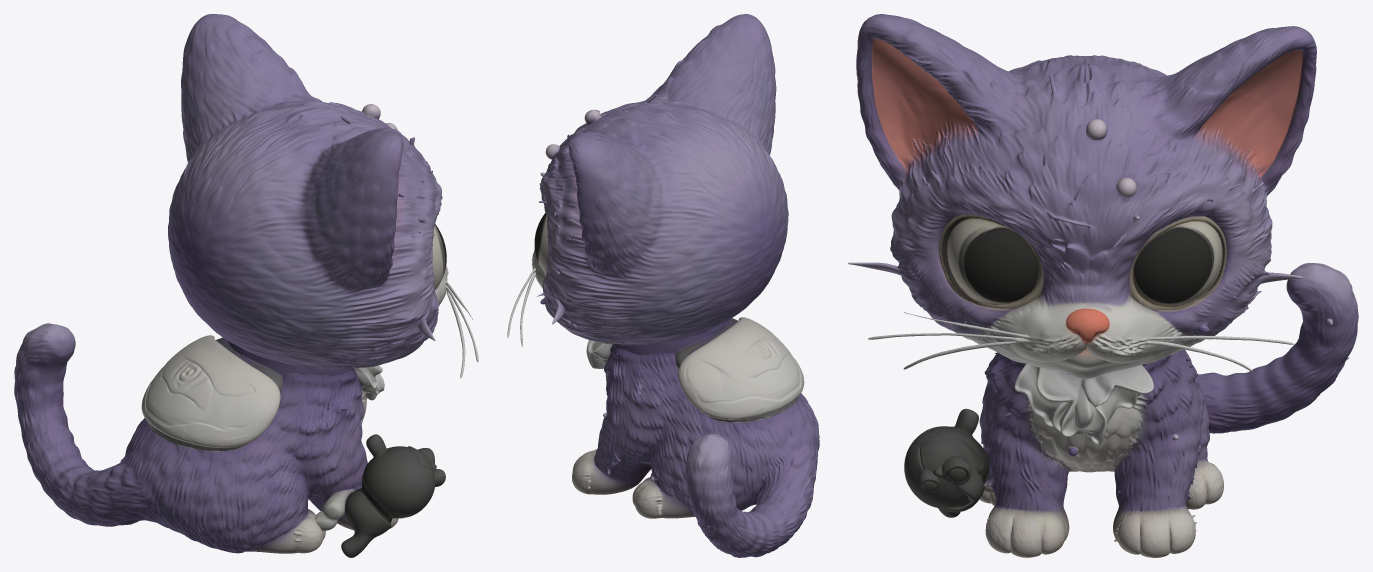
3 views of the same model, side by side, from view 1: azimuth 30°, elevation 25°; view 2: azimuth 150°, elevation 25°; view 3: azimuth 270°, elevation 25° (orthographic). The views are drawn at different scales.
Visible parts, largest first — view 1: tripo_node_5d70e9cf-c1ca-463a-8700-3d551e777be0; view 2: tripo_node_5d70e9cf-c1ca-463a-8700-3d551e777be0; view 3: tripo_node_5d70e9cf-c1ca-463a-8700-3d551e777be0.
Part boxes in pixels (x1,y1,x2,y2): tripo_node_5d70e9cf-c1ca-463a-8700-3d551e777be0: [14, 14, 478, 557]; tripo_node_5d70e9cf-c1ca-463a-8700-3d551e777be0: [507, 14, 819, 557]; tripo_node_5d70e9cf-c1ca-463a-8700-3d551e777be0: [848, 14, 1358, 557].
Size of the model in its own units: 0.7791 by 0.9995 by 0.9105.
Materials: 1 (1 with a texture image).
